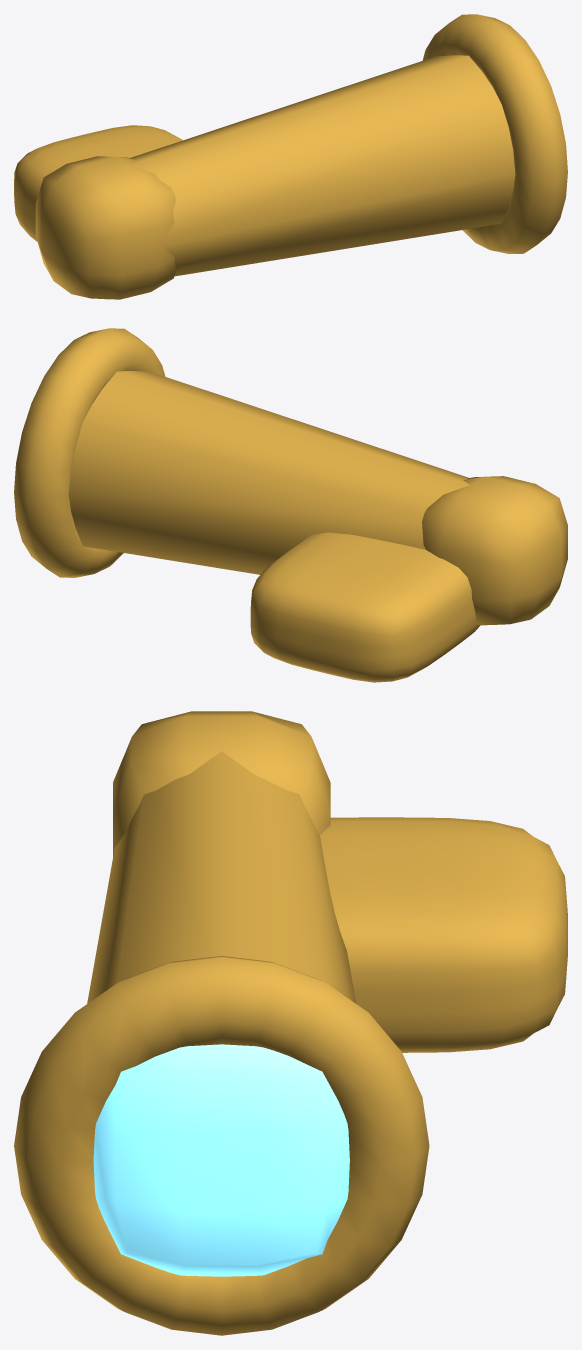
File: scout-lens.fit.glb
3 views of the same model, one above another, from view 1: azimuth 30°, elevation 25°; view 2: azimuth 150°, elevation 25°; view 3: azimuth 270°, elevation 25° (orthographic). The views are drawn at different scales.
Parts seen in each view (by area): view 1: scout-lens; view 2: scout-lens; view 3: scout-lens.
Boxes of the visible parts, x1,y1,x2,y2 form: scout-lens: [14, 14, 567, 299]; scout-lens: [14, 328, 567, 682]; scout-lens: [14, 711, 567, 1335].
Size of the model in its own units: 0.15 by 0.0681 by 0.0908.
